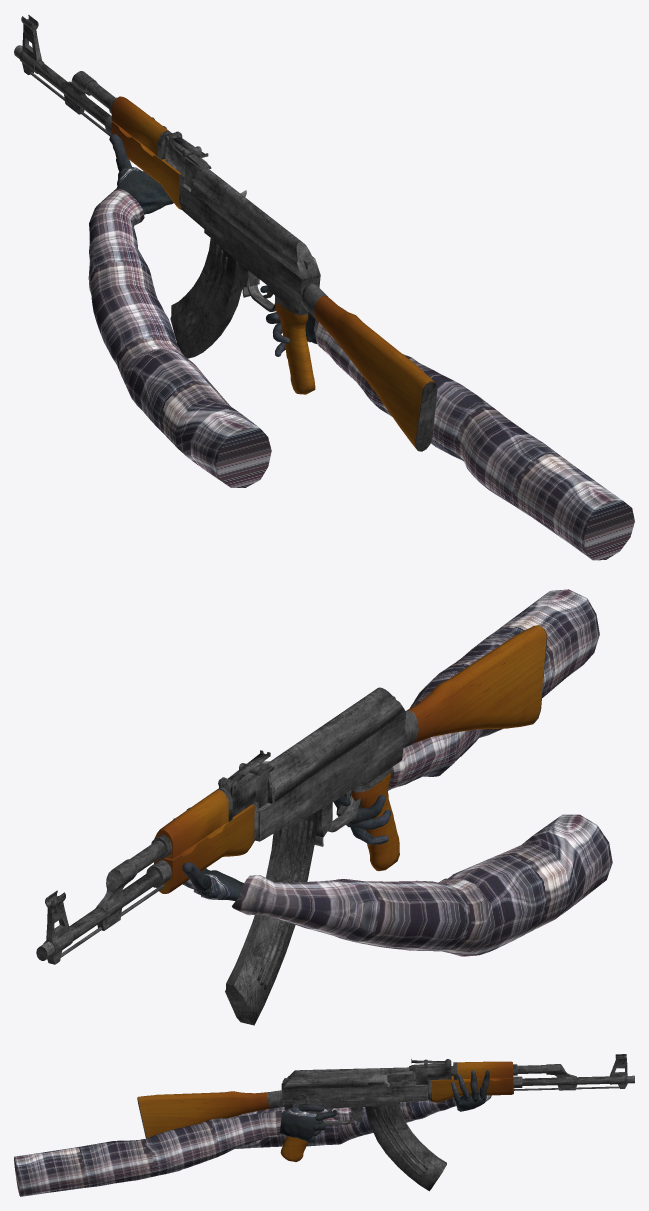
Rendered from ak47_vfire.fbx.
3 renders of one model, top to bottom at view 1: azimuth 30°, elevation 25°; view 2: azimuth 150°, elevation 25°; view 3: azimuth 270°, elevation 25°, orthographic. The views are drawn at different scales.
Parts seen in each view (by area): view 1: larm, rarm, ak47_stock, ak47_magazine, ak47_upperbody, ak47_lowerbody, ak47_grip, ak47_barrel, ak47_pistolgrip, ak47_stockmetal, lhand, ak47_sightblock (+1 smaller); view 2: larm, rarm, ak47_stock, ak47_magazine, ak47_lowerbody, ak47_upperbody, ak47_grip, ak47_barrel, ak47_pistolgrip, ak47_sightblock, ak47_frontsight, lhand; view 3: rarm, ak47_stock, ak47_magazine, larm, ak47_upperbody, ak47_lowerbody, ak47_grip, ak47_barrel, rhand, ak47_sightblock, ak47_pistolgrip, ak47_selector (+3 smaller).
Boxes of the visible parts, left/top/right/bottom form: larm: left=88, top=188, right=271, bottom=487; rarm: left=314, top=319, right=634, bottom=560; ak47_stock: left=314, top=296, right=436, bottom=450; ak47_magazine: left=170, top=238, right=242, bottom=358; ak47_upperbody: left=191, top=168, right=320, bottom=279; ak47_lowerbody: left=181, top=184, right=320, bottom=315; ak47_grip: left=111, top=96, right=181, bottom=209; ak47_barrel: left=14, top=45, right=116, bottom=136; ak47_pistolgrip: left=275, top=299, right=315, bottom=394; ak47_stockmetal: left=301, top=283, right=437, bottom=451; lhand: left=117, top=167, right=173, bottom=214; ak47_sightblock: left=164, top=131, right=211, bottom=188; larm: left=232, top=814, right=612, bottom=956; rarm: left=388, top=589, right=599, bottom=790; ak47_stock: left=406, top=625, right=546, bottom=743; ak47_magazine: left=225, top=811, right=318, bottom=1025; ak47_lowerbody: left=255, top=712, right=406, bottom=841; ak47_upperbody: left=266, top=687, right=405, bottom=803; ak47_grip: left=154, top=789, right=254, bottom=893; ak47_barrel: left=36, top=835, right=171, bottom=964; ak47_pistolgrip: left=351, top=770, right=399, bottom=871; ak47_sightblock: left=218, top=763, right=274, bottom=817; ak47_frontsight: left=43, top=890, right=73, bottom=956; lhand: left=183, top=868, right=243, bottom=901; rarm: left=14, top=1110, right=281, bottom=1196; ak47_stock: left=138, top=1091, right=269, bottom=1138; ak47_magazine: left=365, top=1104, right=446, bottom=1191; larm: left=230, top=1096, right=460, bottom=1148; ak47_upperbody: left=281, top=1067, right=415, bottom=1089; ak47_lowerbody: left=281, top=1081, right=427, bottom=1114; ak47_grip: left=431, top=1061, right=513, bottom=1102; ak47_barrel: left=513, top=1064, right=634, bottom=1090; rhand: left=279, top=1104, right=318, bottom=1141; ak47_sightblock: left=409, top=1059, right=451, bottom=1084; ak47_pistolgrip: left=280, top=1136, right=308, bottom=1161; ak47_selector: left=311, top=1090, right=365, bottom=1101.
Size of the model in its own units: 16.6 by 14.34 by 59.88.
6 materials, 6 textured.
